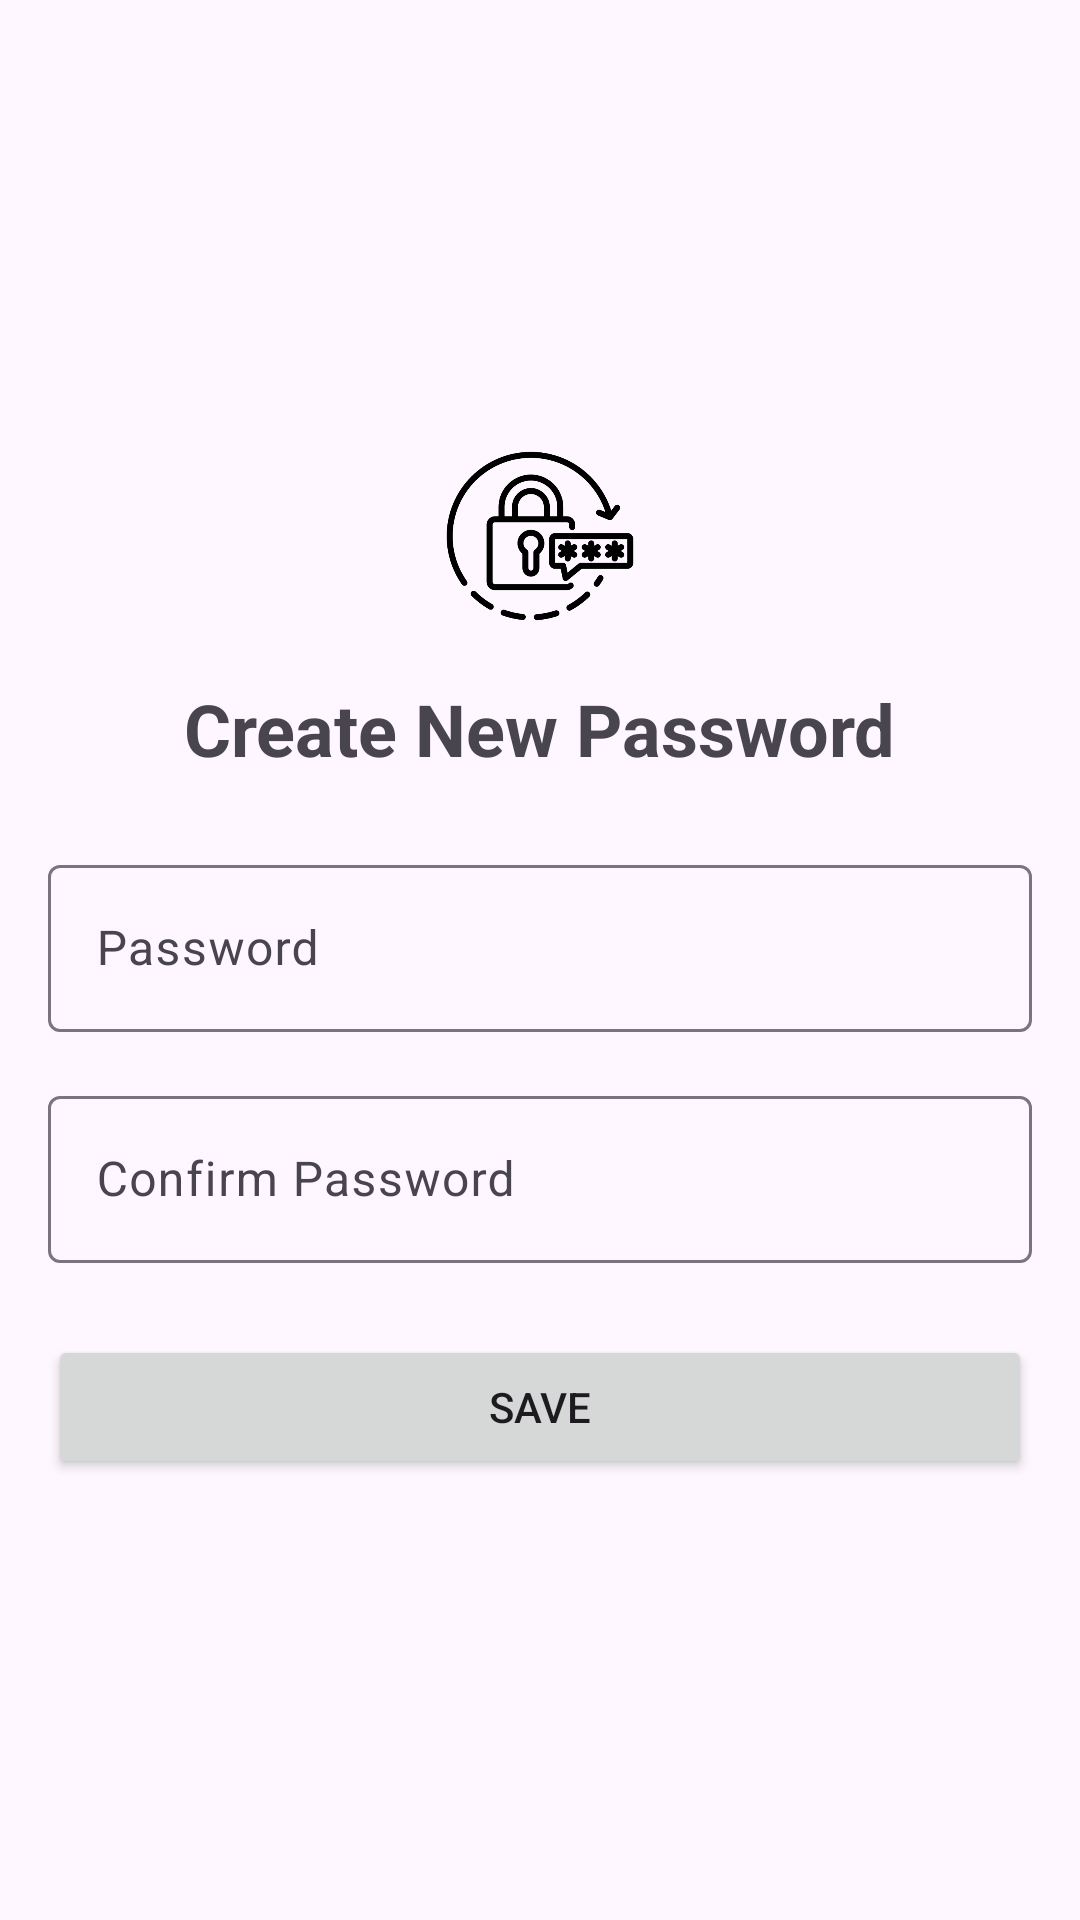

Icons on this 1080w x 1920h Android screen, each with its box as [x1, y1, x2, y2]:
lock reset: [446, 452, 634, 620]
